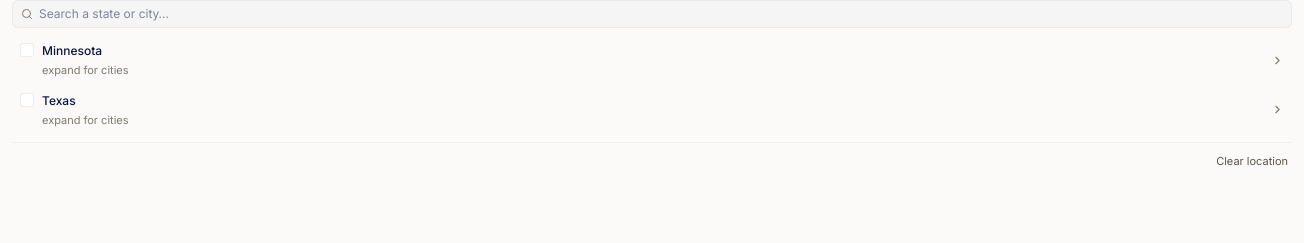
Test: LocationPicker: clicking a city under a ticked state narrows to that city › two states' cities of one name are two choices: picking Houston, TX leaves Houston, MN
Later steps or results of the test are not shown.
Step 1. Click the 1st button named "Show cities" → click(1277, 60), box x1=1262 y1=36 x2=1292 y2=84
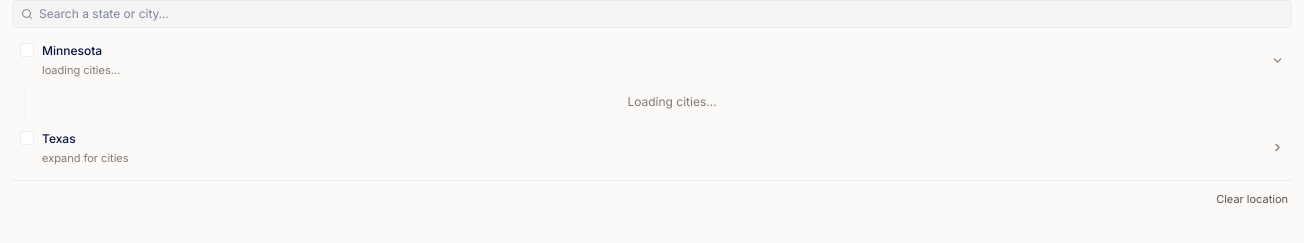
Step 2. Click the button named "Show cities" → click(1277, 148), box x1=1262 y1=124 x2=1292 y2=172
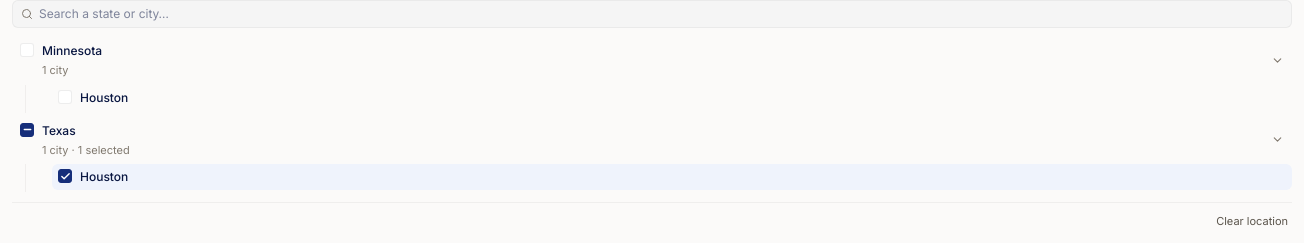
Expected: the text "Houston" is shown 2 times, x1=80 y1=88 x2=128 y2=106; x1=80 y1=168 x2=128 y2=186
